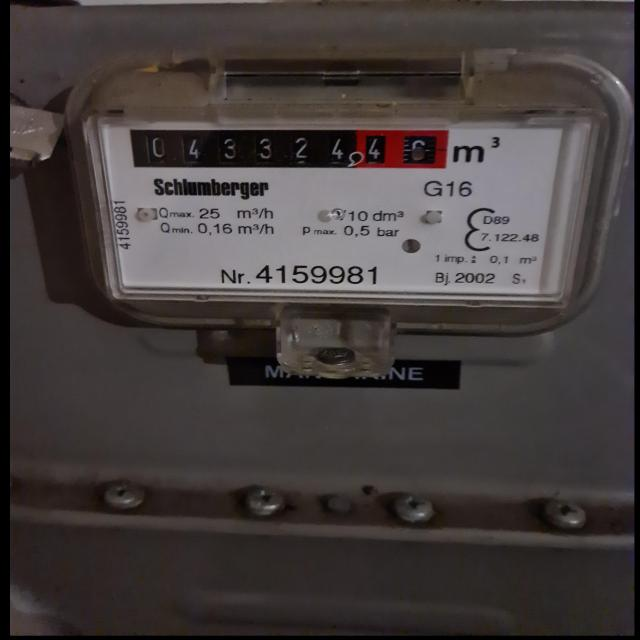gaz_meter: (88, 113, 579, 303)
indication: (128, 130, 449, 170)
